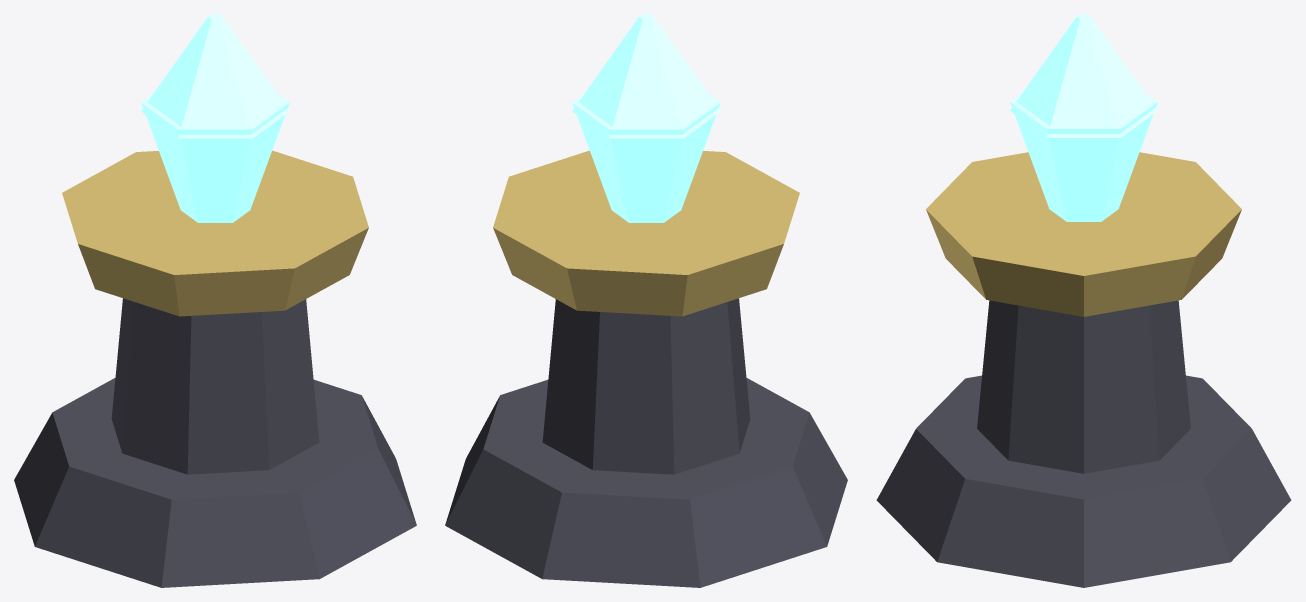
File: dawn_relic_pedestal.glb
3 renders of one model, left to right at view 1: azimuth 30°, elevation 25°; view 2: azimuth 150°, elevation 25°; view 3: azimuth 270°, elevation 25°, orthographic.
Visible parts, largest first — view 1: SM_DawnRelicPedestal; view 2: SM_DawnRelicPedestal; view 3: SM_DawnRelicPedestal.
Part boxes in pixels (x1,y1,x2,y2): SM_DawnRelicPedestal: (14, 14, 416, 587); SM_DawnRelicPedestal: (445, 14, 847, 587); SM_DawnRelicPedestal: (876, 14, 1291, 587).
Bounding box in the file's own units: 0.84 × 1.08 × 0.84.
